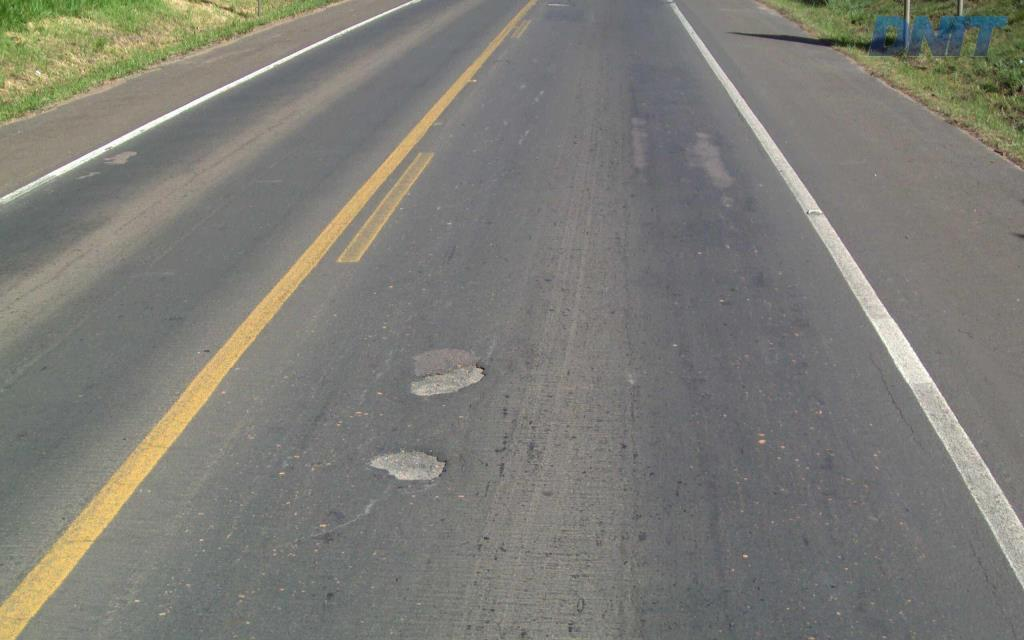pothole: (363, 439, 457, 492), (395, 354, 488, 401)
